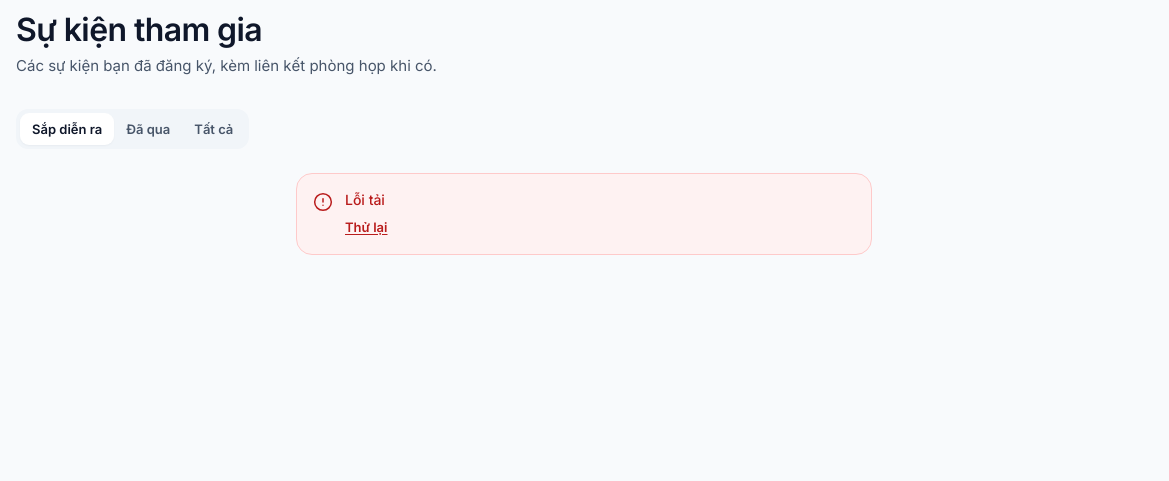
Test case: MyEventsPage › shows an empty state per scope and an error with retry
The image size is (1169, 481).
expect the message shows "Lỗi tải": met, box [345, 191, 385, 208]
Click the button "Thử lại".
click(366, 227)  # box [345, 218, 388, 236]
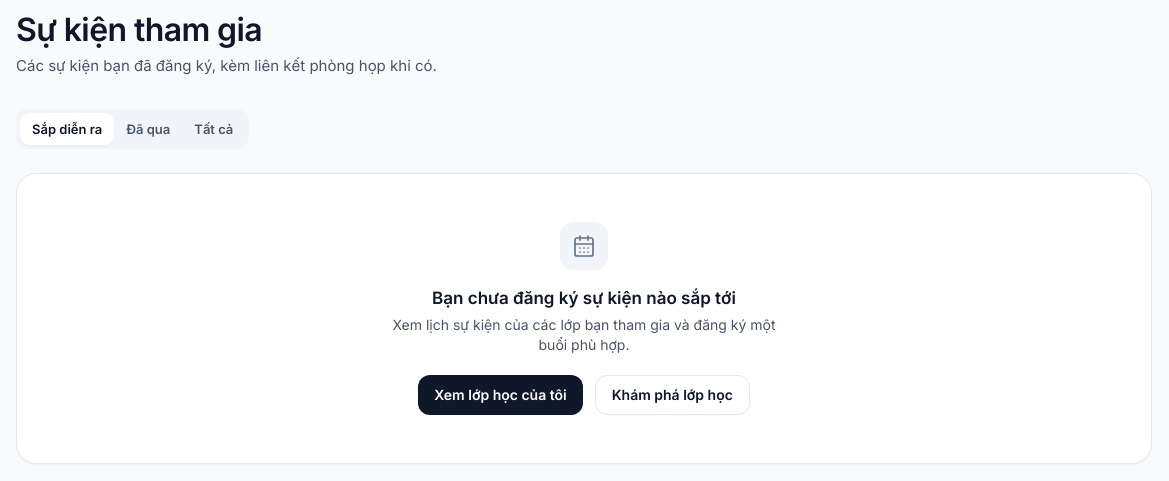
expect the heading "Bạn chưa đăng ký sự kiện nào sắp tới" is shown: met, box [432, 286, 736, 311]
Click the button "Đã qua".
click(148, 129)  # box [114, 113, 182, 145]
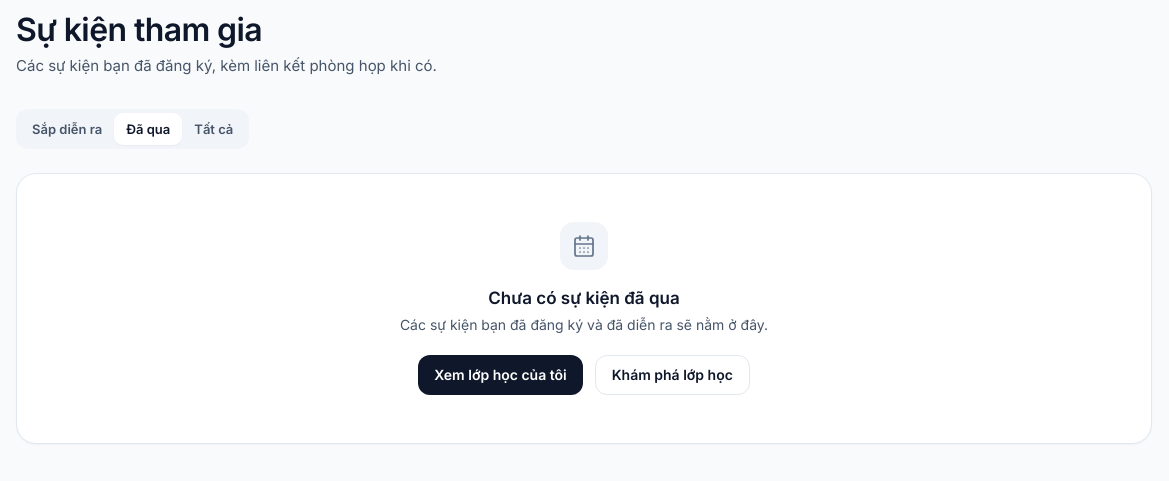
expect the heading "Chưa có sự kiện đã qua" is shown: met, box [488, 286, 680, 311]
